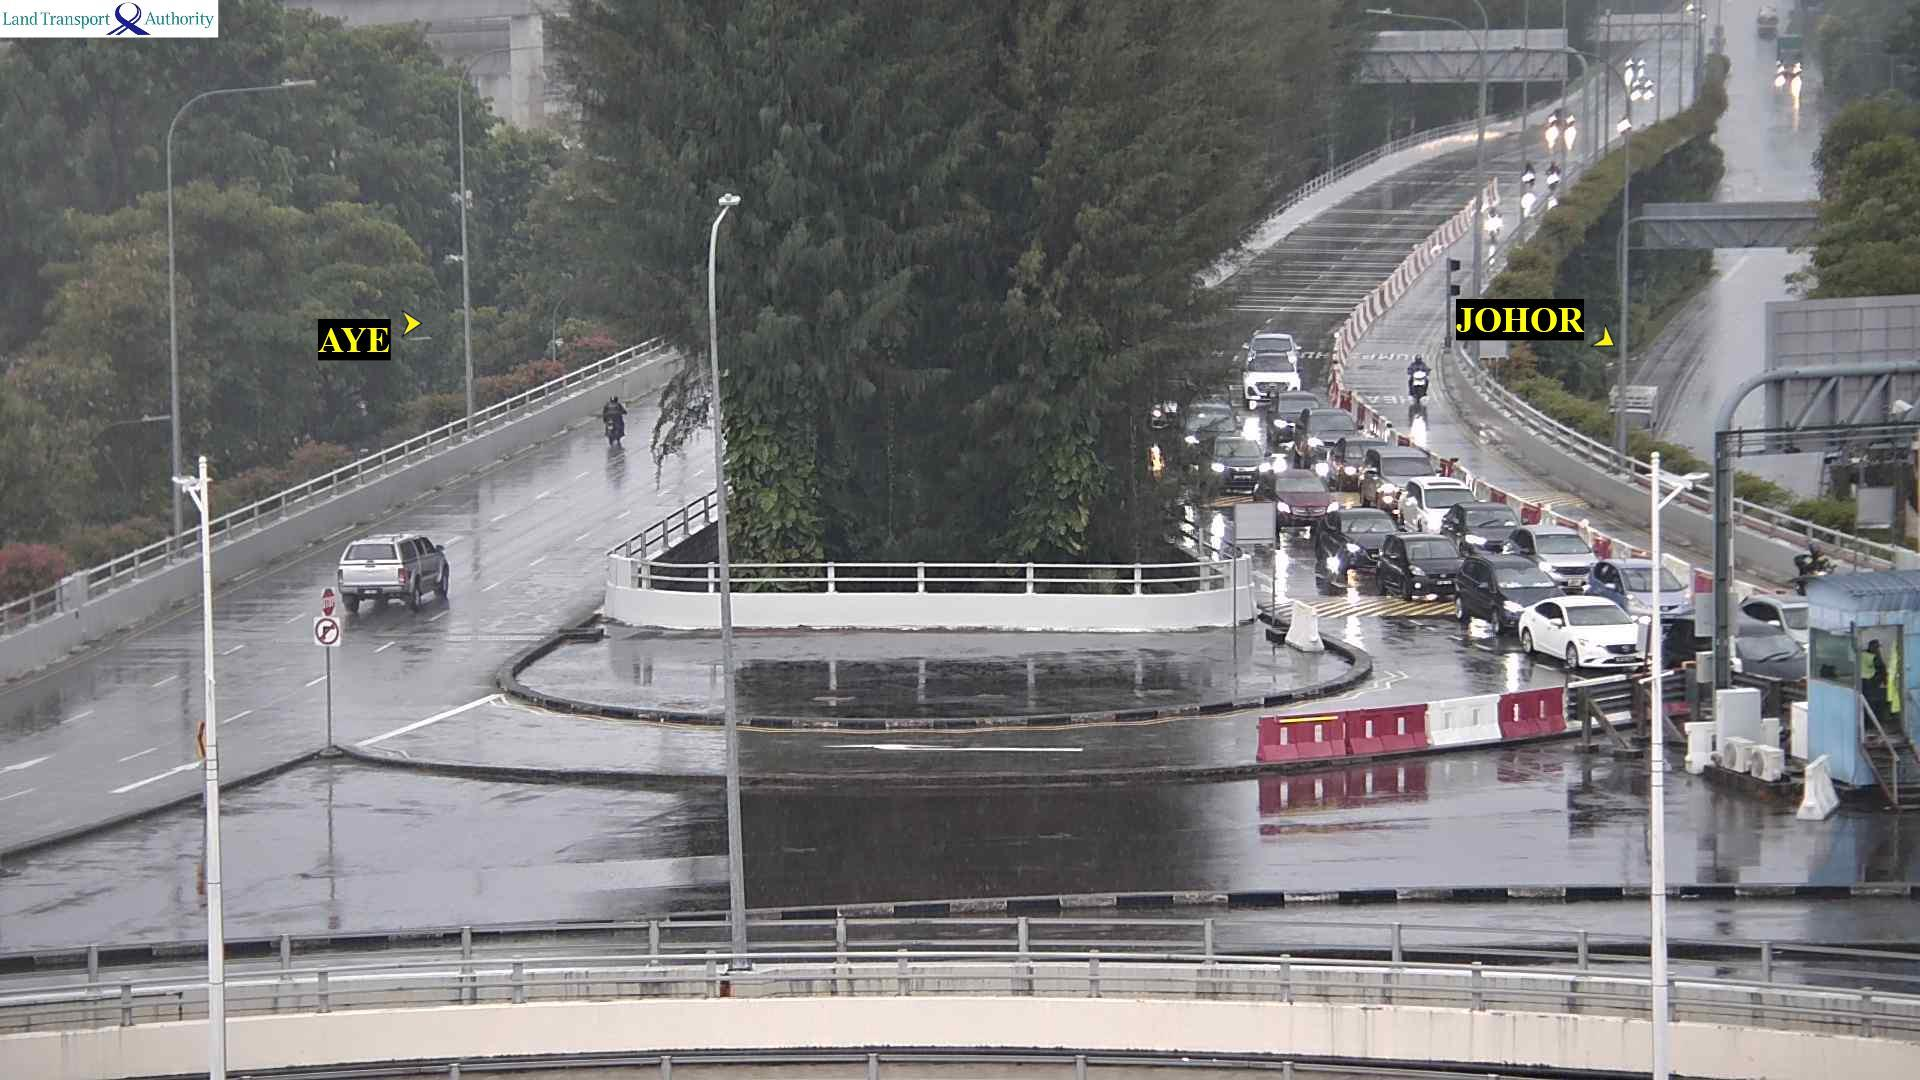vehicle-secondlink-johor: (1499, 597, 1687, 666), (1360, 543, 1503, 600), (1443, 566, 1592, 613), (1568, 563, 1706, 613), (1383, 484, 1519, 533), (1498, 529, 1617, 576), (1346, 447, 1455, 497), (1300, 509, 1414, 555), (1180, 402, 1244, 458), (1258, 469, 1325, 521), (1205, 439, 1275, 487), (1331, 440, 1393, 485), (1296, 411, 1353, 459), (1245, 357, 1298, 402), (1270, 392, 1313, 440), (1247, 332, 1295, 357), (1408, 353, 1429, 400), (1547, 109, 1576, 132), (1484, 208, 1499, 241), (1544, 161, 1561, 190), (1523, 162, 1532, 187)
vehicle-secondlink-singapore: (334, 537, 452, 616), (603, 398, 632, 439)
